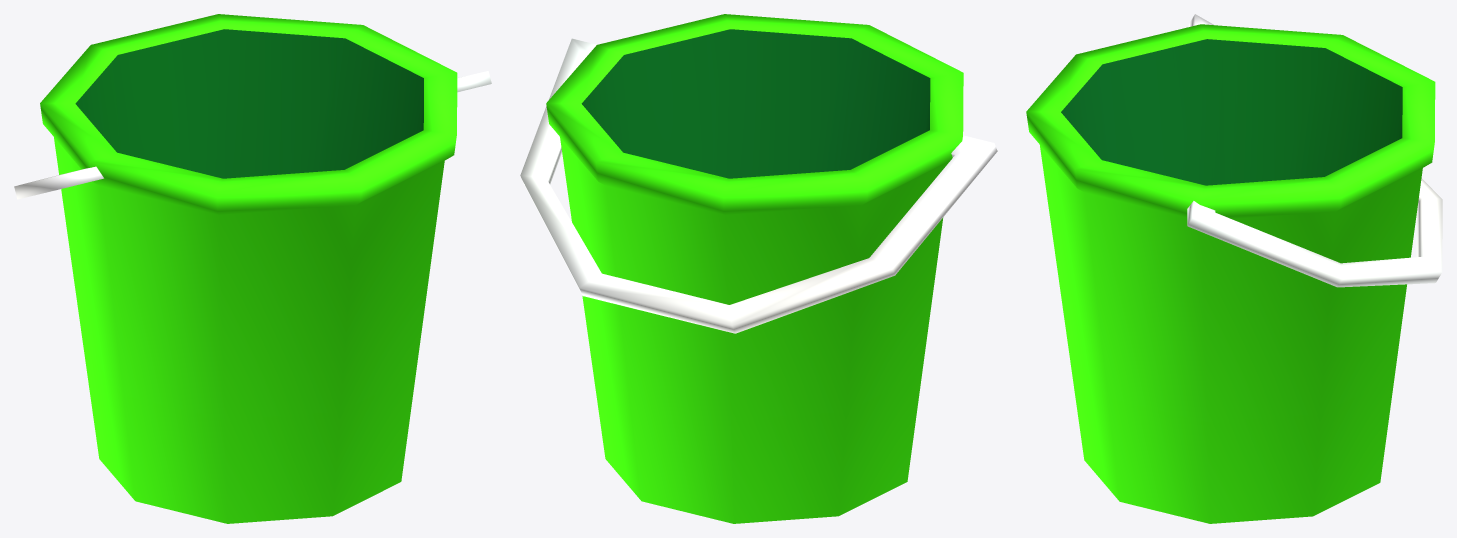
The model's file is BeachToyBucketGreen.glb.
3 views of the same model, side by side, from view 1: azimuth 30°, elevation 25°; view 2: azimuth 150°, elevation 25°; view 3: azimuth 270°, elevation 25° (orthographic). The views are drawn at different scales.
Parts seen in each view (by area): view 1: BeachToyBucketGreen; view 2: BeachToyBucketGreen; view 3: BeachToyBucketGreen.
Boxes of the visible parts, x1,y1,x2,y2 form: BeachToyBucketGreen: [14, 14, 491, 523]; BeachToyBucketGreen: [520, 14, 997, 523]; BeachToyBucketGreen: [1026, 14, 1442, 523].
Size of the model in its own units: 0.4322 by 0.347 by 0.3758.
1 material, 1 textured.
